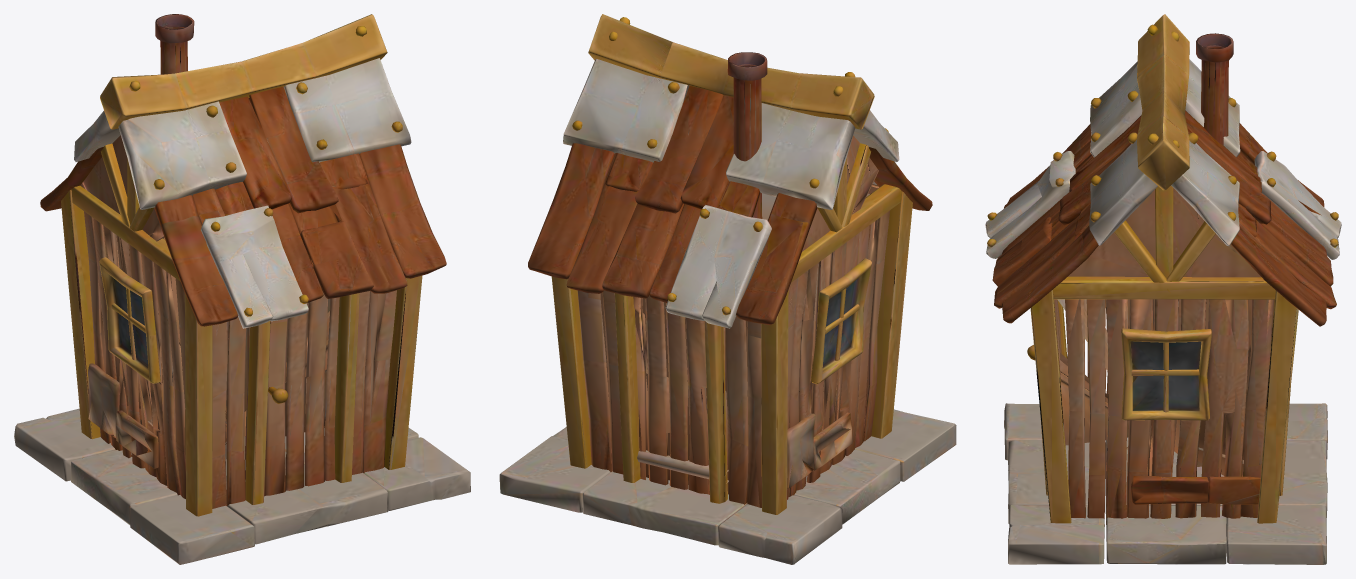
The model's file is house-shed.glb.
3 renders of one model, left to right at view 1: azimuth 30°, elevation 25°; view 2: azimuth 150°, elevation 25°; view 3: azimuth 270°, elevation 25°, orthographic.
Parts seen in each view (by area): view 1: house-shed; view 2: house-shed; view 3: house-shed.
Part boxes in pixels (x1,y1,x2,y2): house-shed: [14, 14, 470, 564]; house-shed: [499, 14, 956, 564]; house-shed: [985, 14, 1341, 564].
Size of the model in its own units: 2.81 by 4.01 by 3.
1 material, 1 textured.
